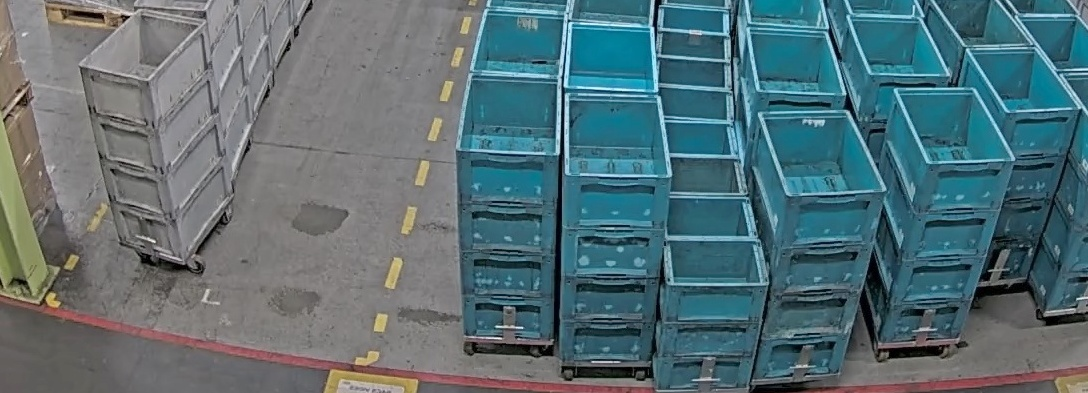4G: (80, 11, 235, 261)
B4: (864, 87, 1013, 346), (750, 110, 886, 380), (561, 92, 672, 367), (957, 47, 1081, 290), (455, 72, 563, 345)
B8: (655, 195, 768, 391)
